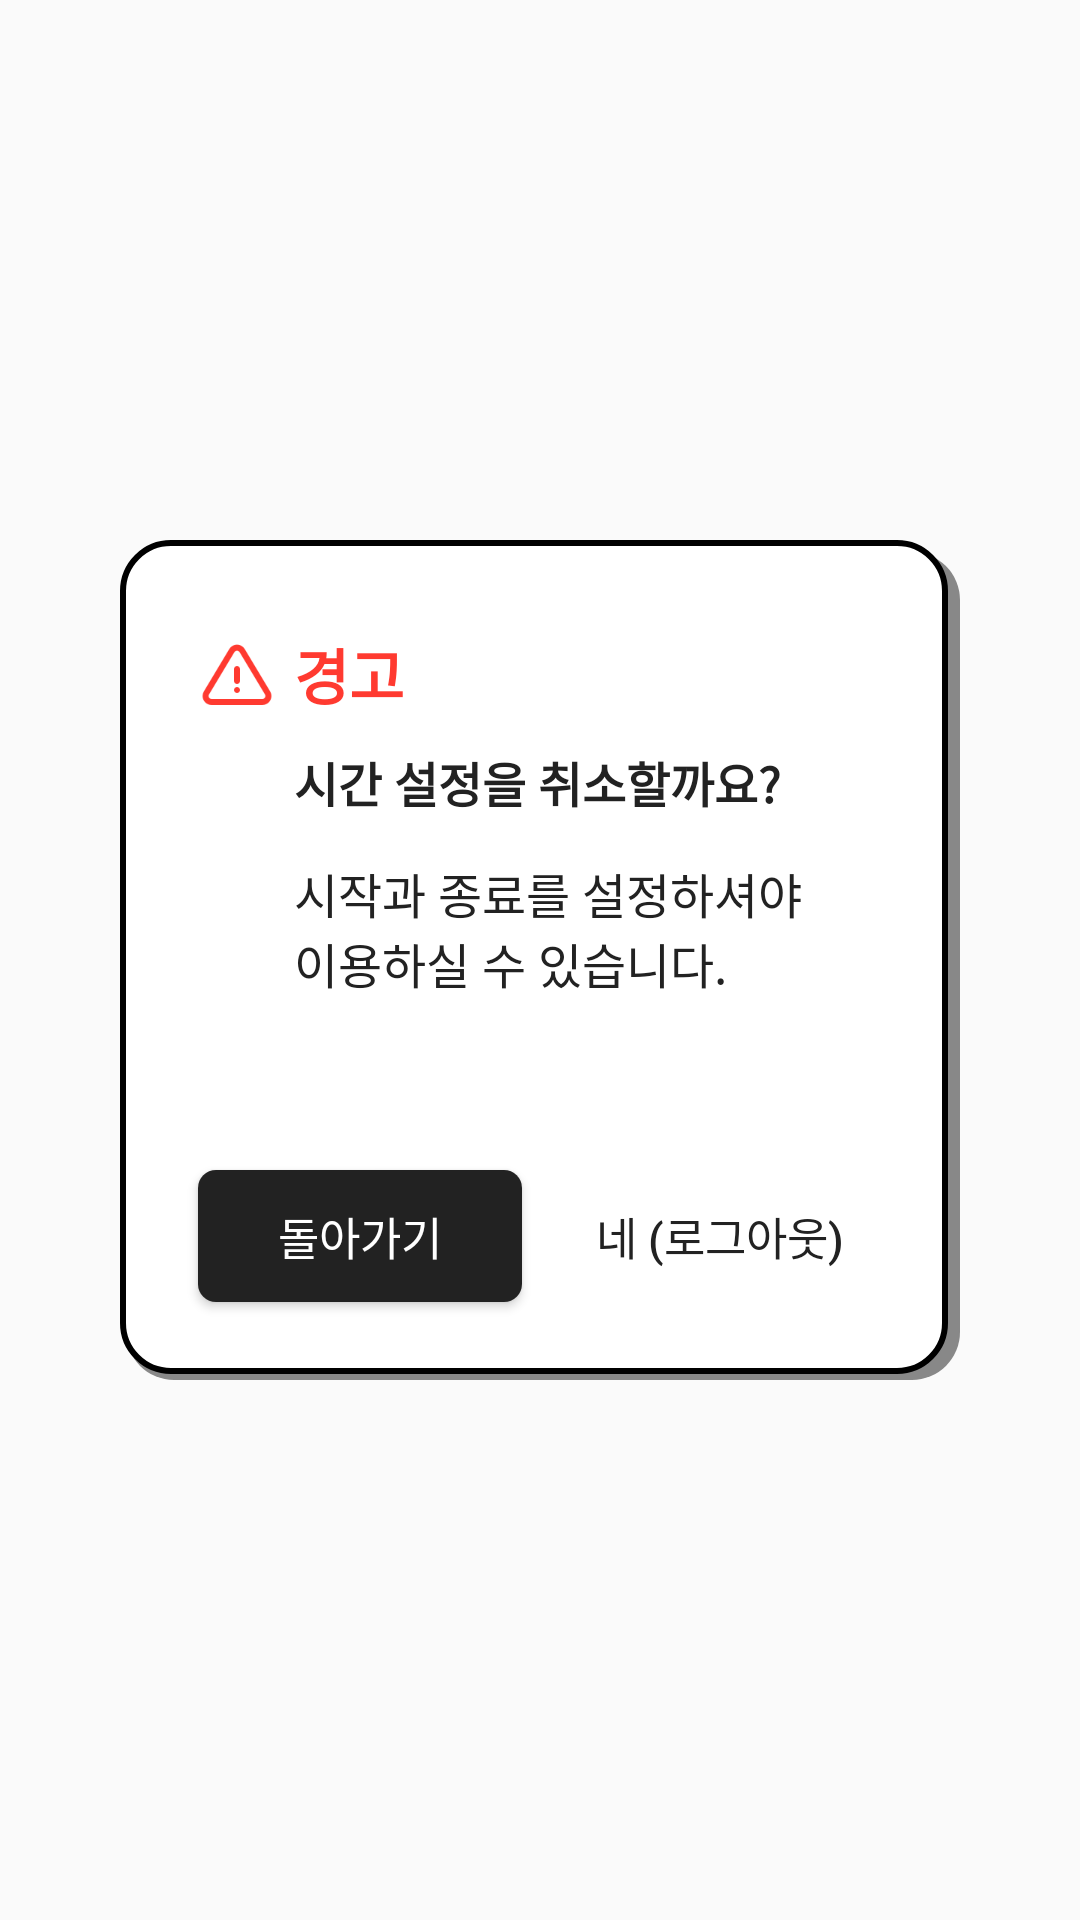

Where icons sit on this 1080 x 1920 app screen, as [x1,y1,x2,y2]:
popup caution: [202,644,272,705]
